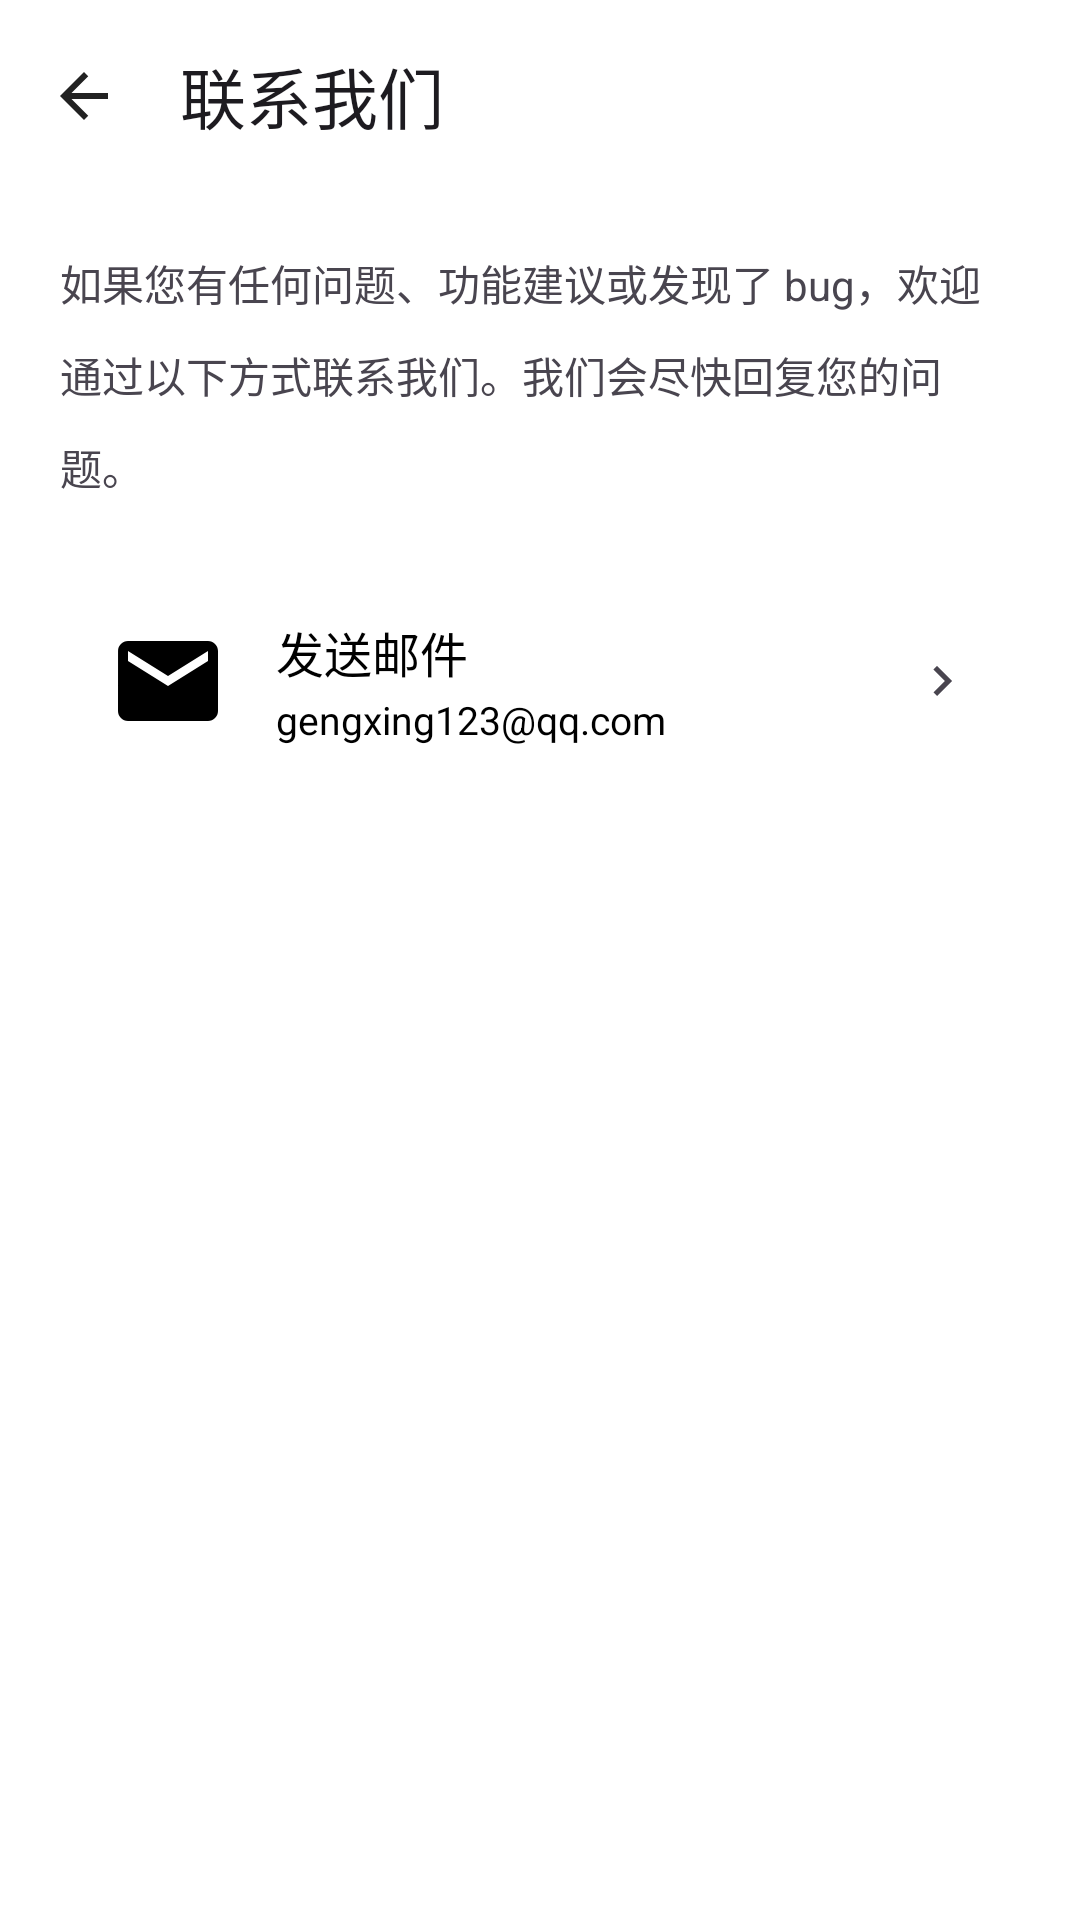

Icon bounding boxes for this 1080px×1920px phone screenshot, format (x1, y1, x2, y2):
arrow right: (933, 666, 952, 696)
email: (118, 641, 218, 721)
